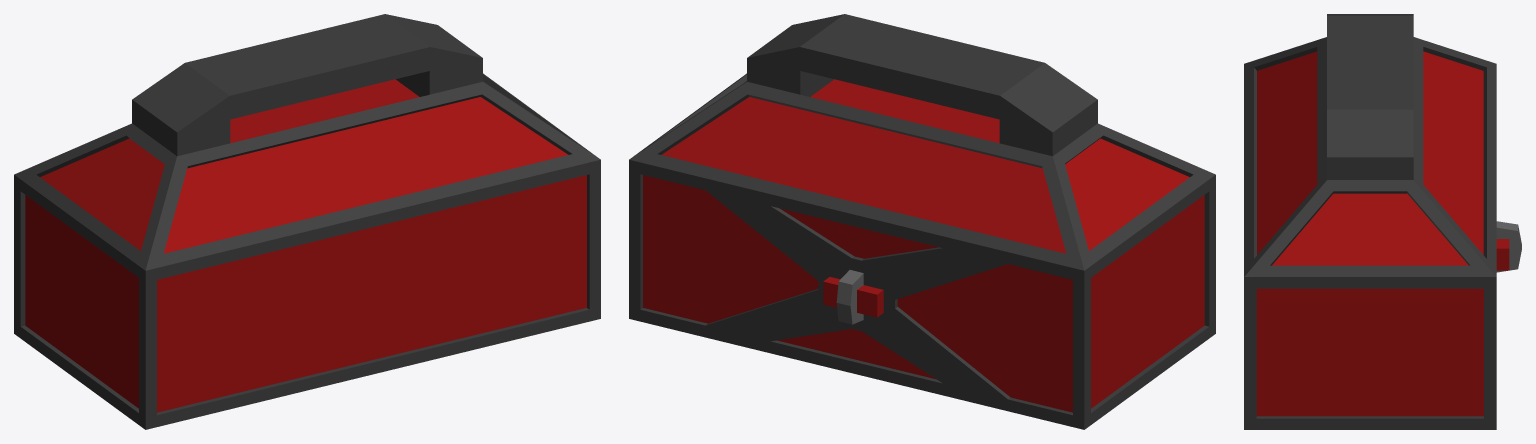
File: toolBox_01.FBX
3 renders of one model, left to right at view 1: azimuth 30°, elevation 25°; view 2: azimuth 150°, elevation 25°; view 3: azimuth 270°, elevation 25°, orthographic. The views are drawn at different scales.
Visible parts, largest first — view 1: Box001; view 2: Box001; view 3: Box001.
Part boxes in pixels (x1=…): Box001: x1=14, y1=14, x2=600, y2=429; Box001: x1=629, y1=14, x2=1215, y2=429; Box001: x1=1244, y1=14, x2=1521, y2=429.
Size of the model in its own units: 20 by 11.39 by 11.
